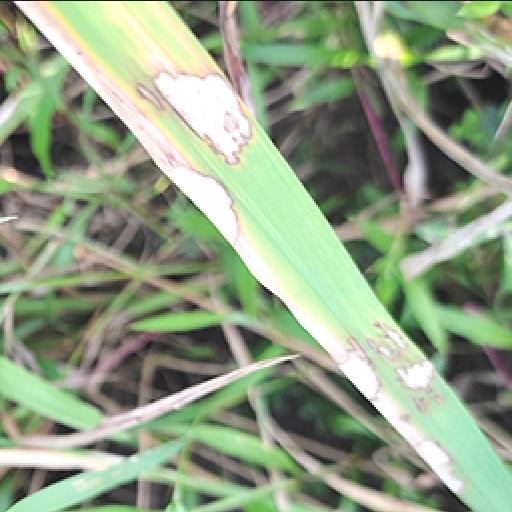Leaf Blast Disease: (0, 338, 298, 500), (318, 310, 474, 504), (14, 2, 148, 168), (138, 60, 288, 164), (142, 158, 254, 262)
